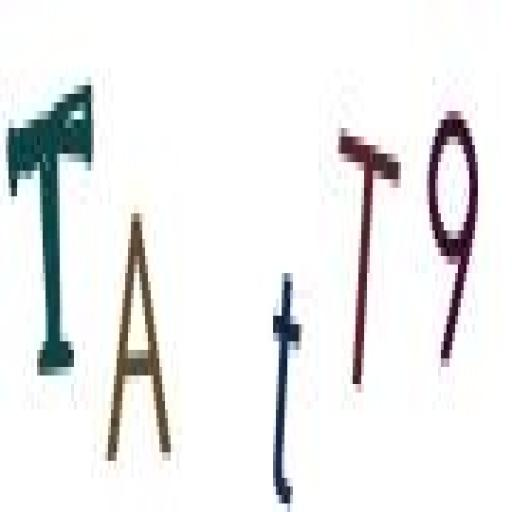9: (422, 92, 480, 392)
A: (100, 194, 178, 470)
T: (6, 74, 98, 410), (334, 92, 401, 398)
t: (264, 247, 302, 512)
